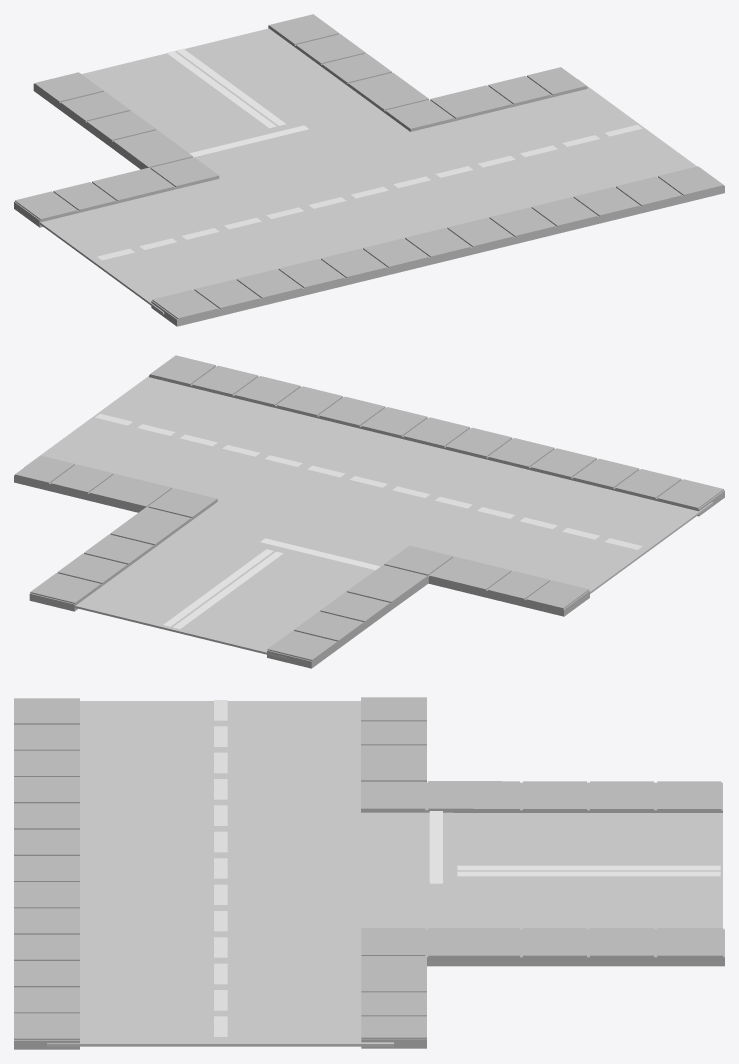
File: Model_Skrzyzowanie 1.fbx
3 renders of one model, top to bottom at view 1: azimuth 30°, elevation 25°; view 2: azimuth 150°, elevation 25°; view 3: azimuth 270°, elevation 25°, orthographic. The views are drawn at different scales.
Visible parts, largest first — view 1: Mesh_Skrzyzowanie_Jezdnia, Mesh_chodnik_Skrzyzowanie; view 2: Mesh_Skrzyzowanie_Jezdnia, Mesh_chodnik_Skrzyzowanie; view 3: Mesh_Skrzyzowanie_Jezdnia, Mesh_chodnik_Skrzyzowanie.
Boxes of the visible parts, x1,y1,x2,y2 form: Mesh_Skrzyzowanie_Jezdnia: [40, 28, 696, 314]; Mesh_chodnik_Skrzyzowanie: [14, 14, 724, 326]; Mesh_Skrzyzowanie_Jezdnia: [24, 376, 712, 659]; Mesh_chodnik_Skrzyzowanie: [14, 355, 724, 668]; Mesh_Skrzyzowanie_Jezdnia: [47, 700, 722, 1046]; Mesh_chodnik_Skrzyzowanie: [14, 697, 724, 1049].
Size of the model in its own units: 1367 by 22.46 by 1562.
